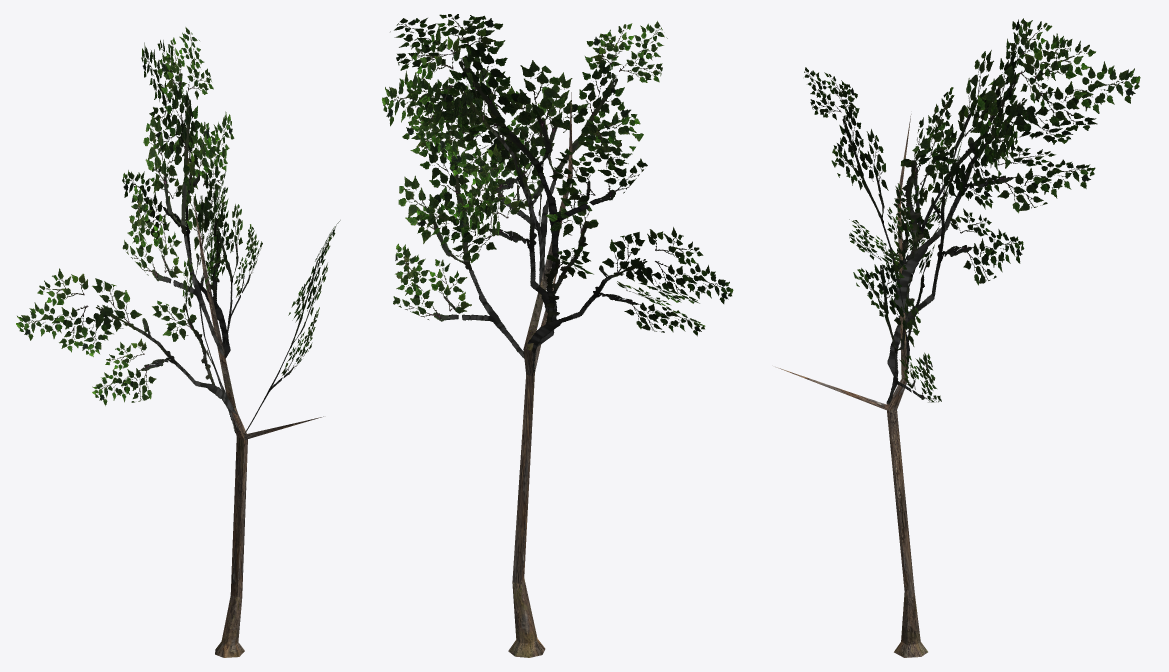
The model's file is tree_5_lod.dae.
3 renders of one model, left to right at view 1: azimuth 30°, elevation 25°; view 2: azimuth 150°, elevation 25°; view 3: azimuth 270°, elevation 25°, orthographic. The views are drawn at different scales.
Parts seen in each view (by area): view 1: Mesh_Object; view 2: Mesh_Object; view 3: Mesh_Object.
Part boxes in pixels (x1,y1,x2,y2): Mesh_Object: [16, 27, 340, 657]; Mesh_Object: [382, 14, 733, 657]; Mesh_Object: [776, 18, 1140, 657].
Size of the model in its own units: 4.33 by 7.84 by 4.3.
